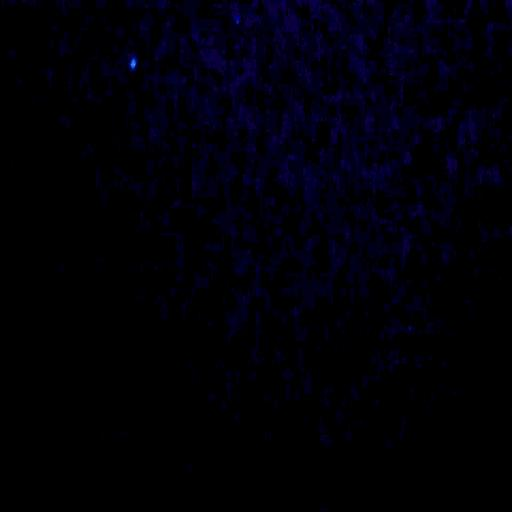object-detection-project: (130, 58, 136, 69)
